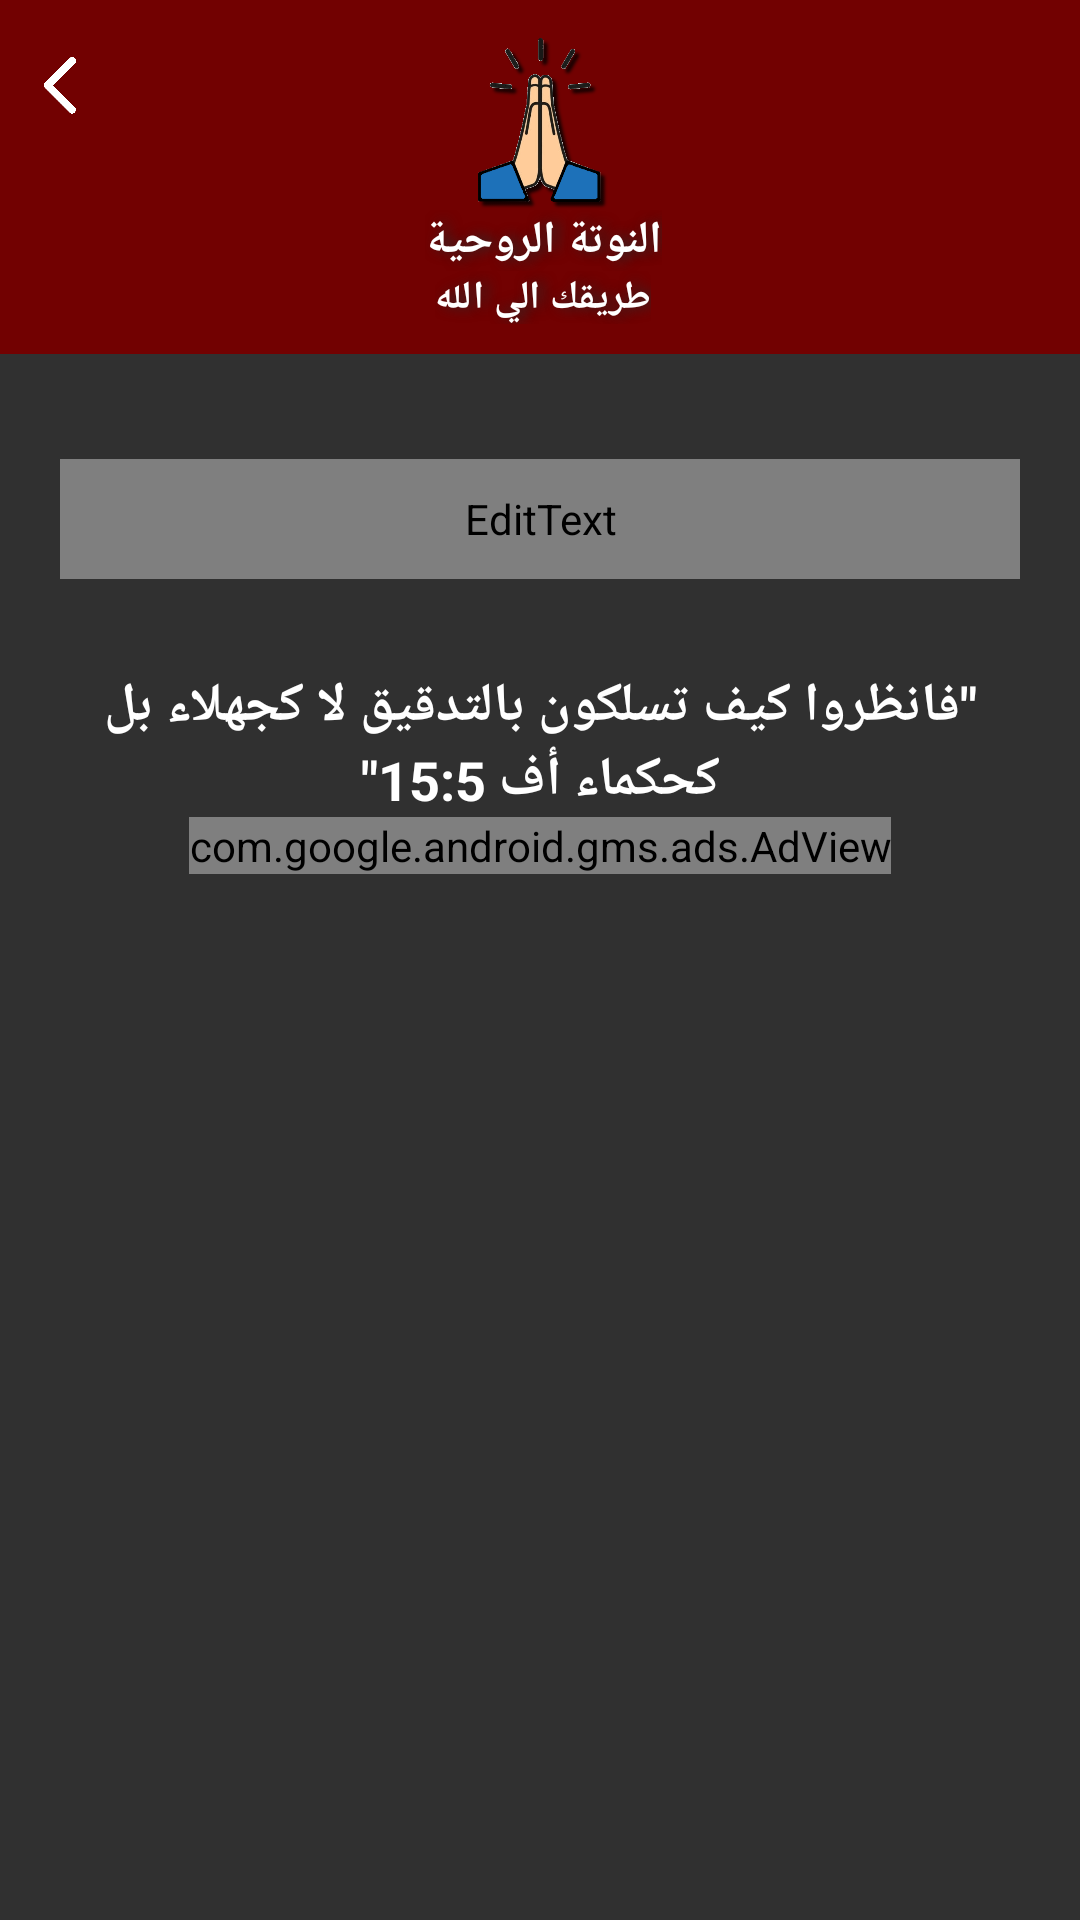

Named icons in this screenshot (1080px×1920px) and their bounding boxes, (x1, y1, x2, y2):
back: (44, 57, 76, 114)
